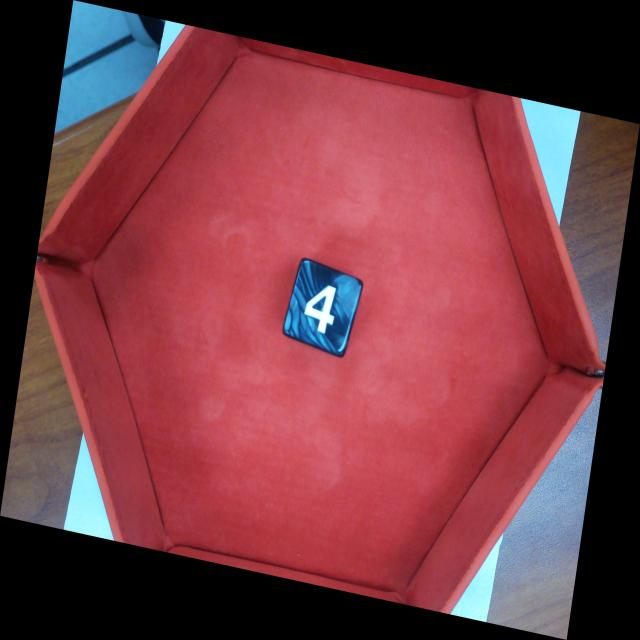dice: (279, 255, 364, 360)
